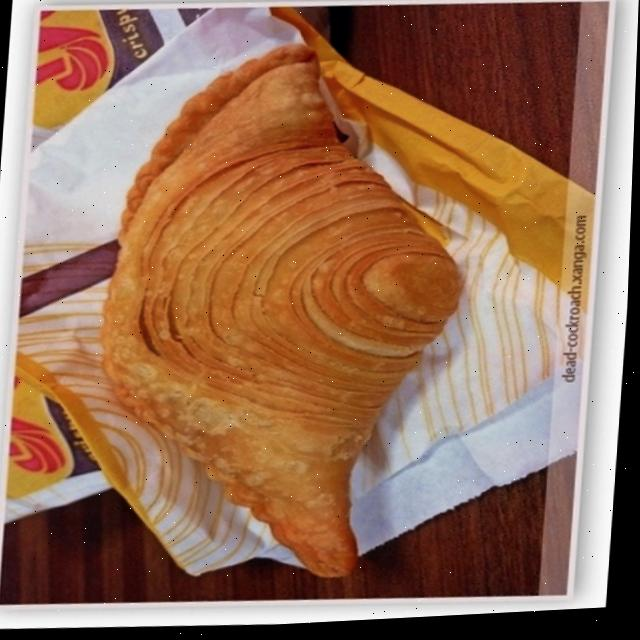炸货点心: (4, 0, 605, 612)
